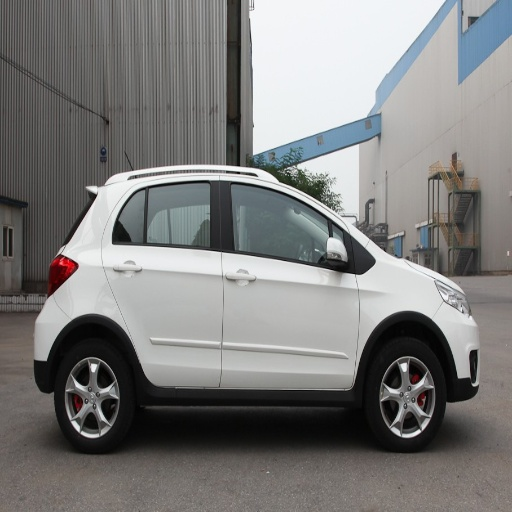back_right_door: (104, 175, 220, 391)
front_right_door: (220, 177, 360, 387)
